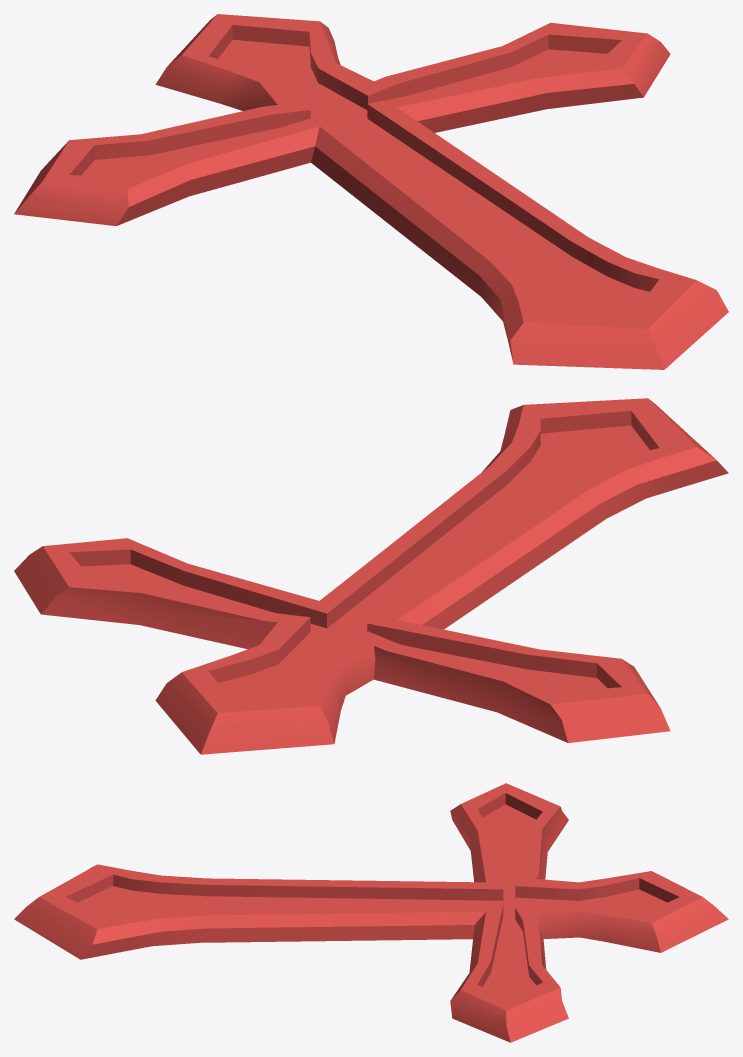
File: SM_Upgrade_Cross.fbx
3 views of the same model, one above another, from view 1: azimuth 30°, elevation 25°; view 2: azimuth 150°, elevation 25°; view 3: azimuth 270°, elevation 25° (orthographic). The views are drawn at different scales.
Parts seen in each view (by area): view 1: SM_Upgrade_Cross; view 2: SM_Upgrade_Cross; view 3: SM_Upgrade_Cross.
Part boxes in pixels (x1,y1,x2,y2): SM_Upgrade_Cross: (14, 14, 728, 369); SM_Upgrade_Cross: (14, 398, 728, 754); SM_Upgrade_Cross: (14, 783, 728, 1042).
Size of the model in its own units: 0.8917 by 0.0376 by 1.09.
